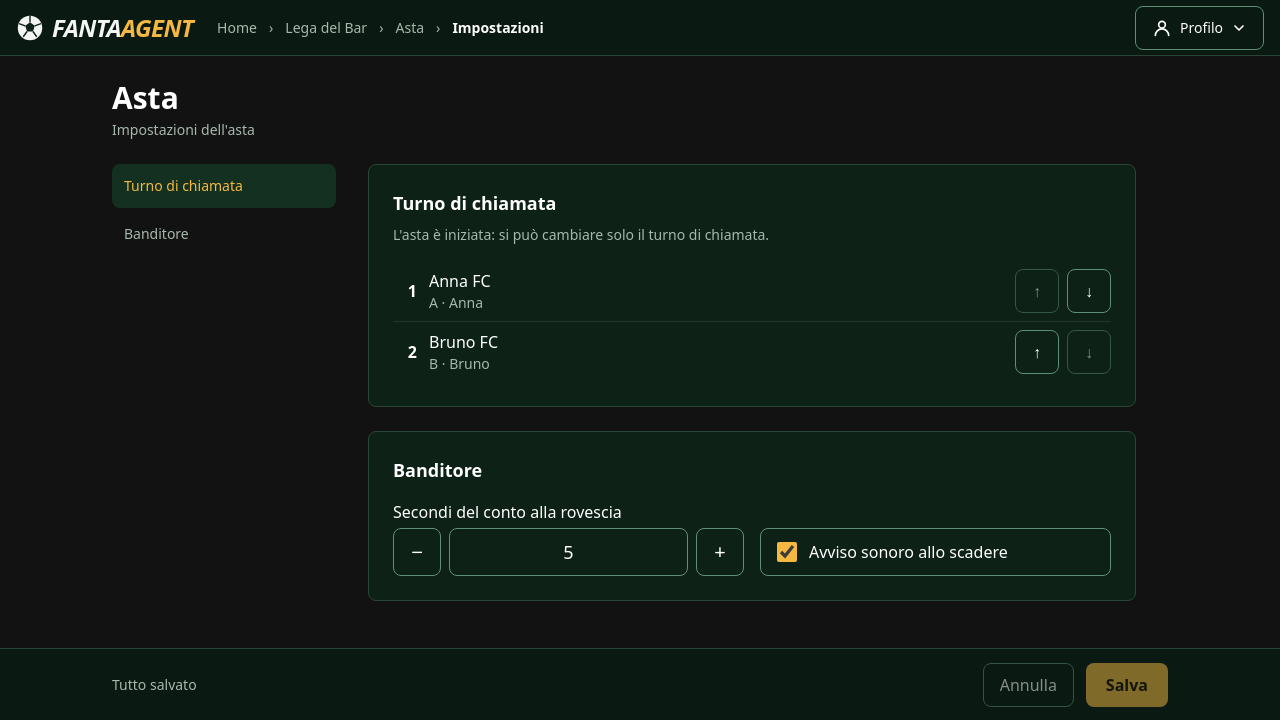
Scenario: AuctionSettingsRoute › spostare una squadra e cambiare i secondi, poi Salva: due scritture, una pressione
The width and height of the screenshot is (1280, 720).
Click the button named "Sposta giù Anna FC".
click(1089, 291)  # box [1067,269,1111,313]
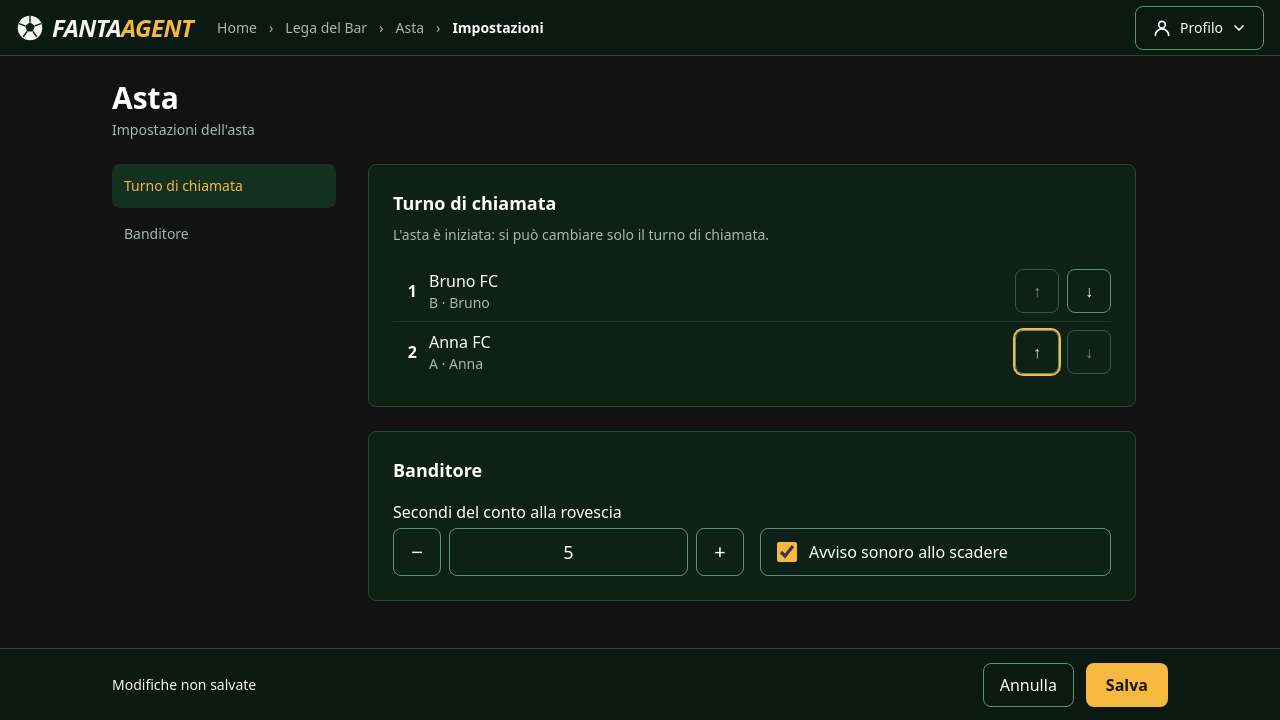
Click the button named "Un secondo in più".
click(720, 552)  # box [696,528,744,576]
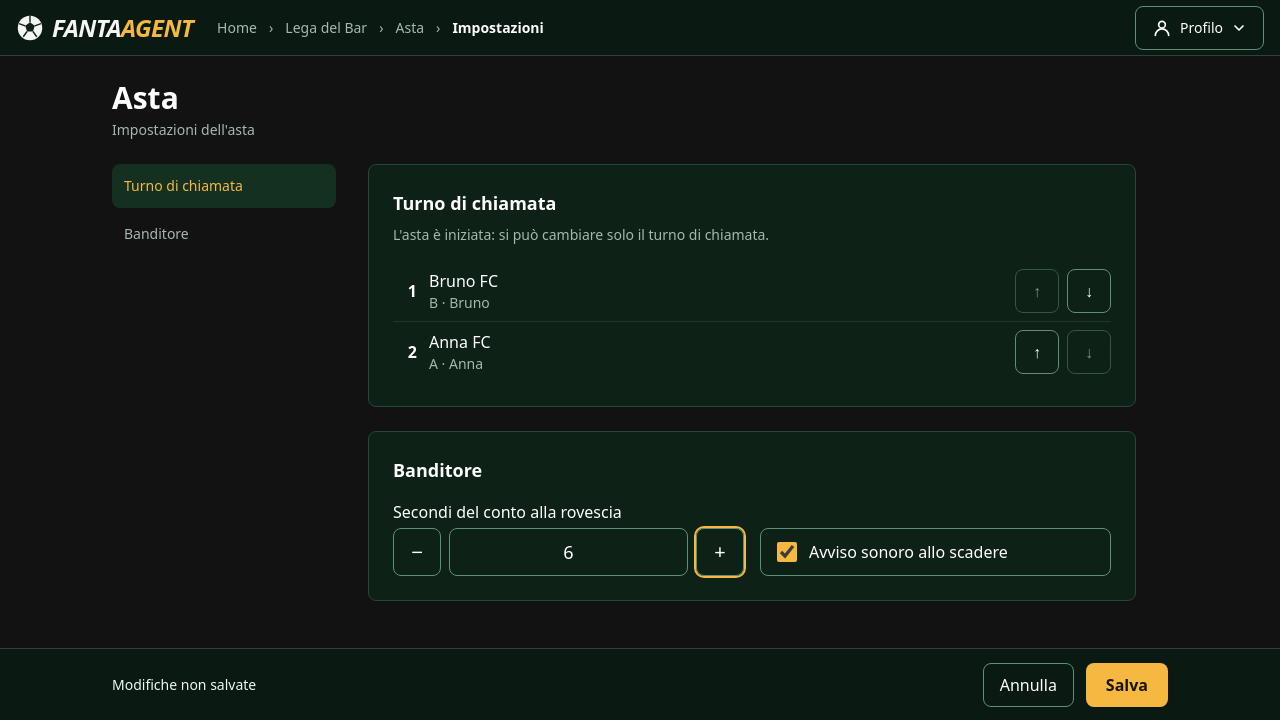
Expected: the text "Modifiche non salvate" is shown, [112,675,256,694]
Click the button "Salva".
click(1127, 684)  # box [1086,662,1168,706]
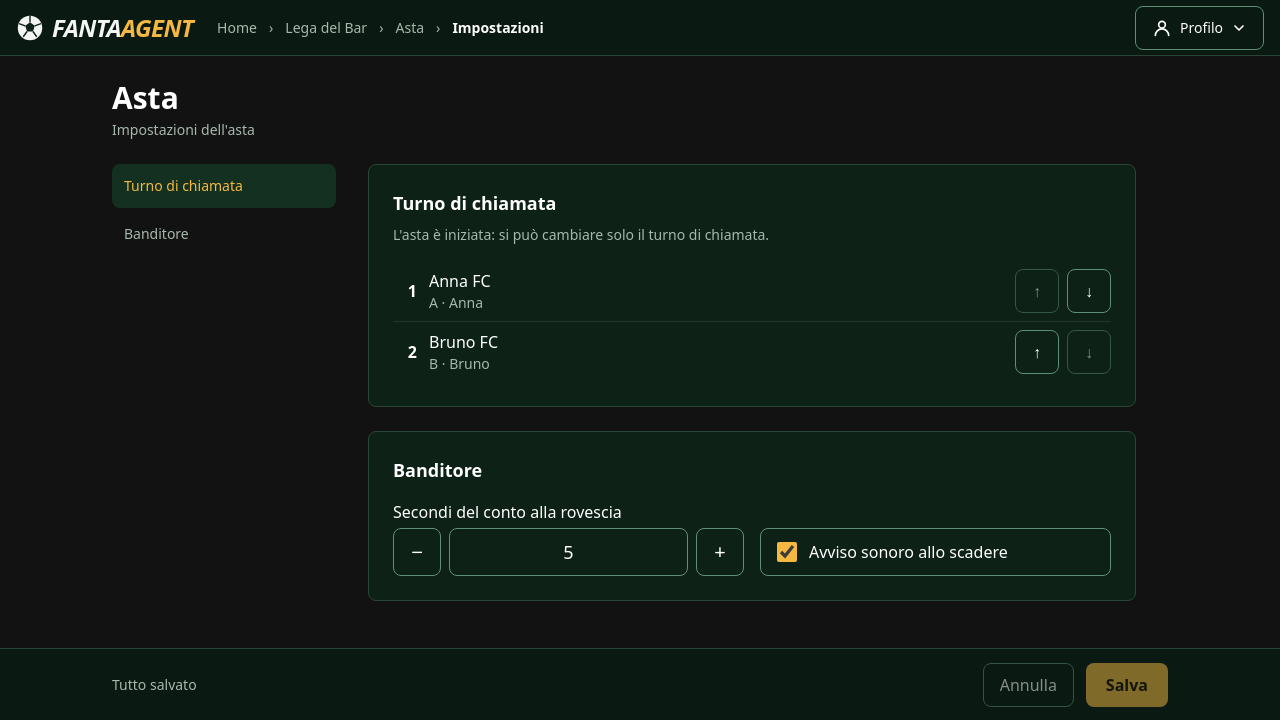
Expected: the text "Tutto salvato" is shown, [112,675,197,694]
